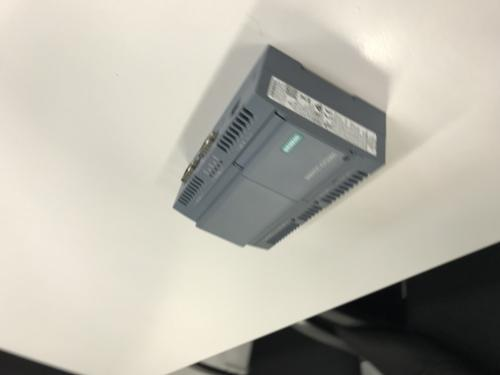device: (115, 125, 328, 331)
